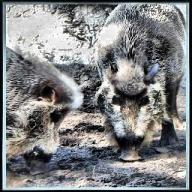boar: (92, 3, 186, 161), (6, 45, 84, 172)
